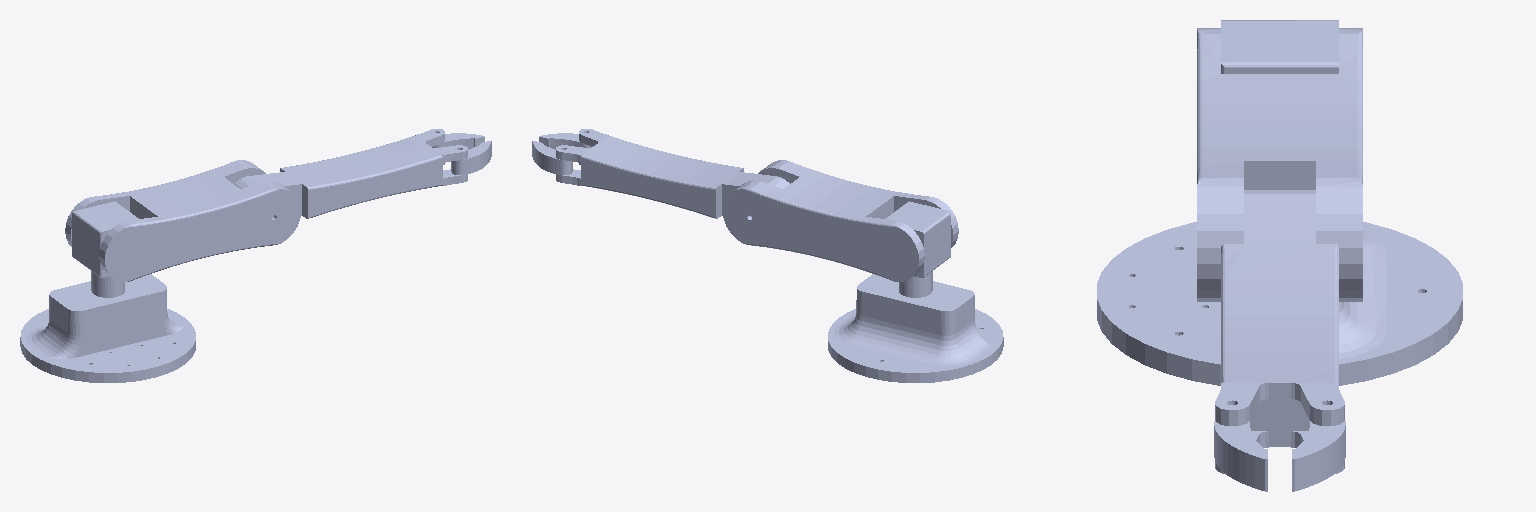
The robot description file, URDF, robot "ROBOT3DOF":
<?xml version="1.0" encoding="utf-8"?>
<!-- This URDF was automatically created by SolidWorks to URDF Exporter! Originally created by [author] ([email redacted]) 
     Commit Version: 1.4.4-24-g24328f6  Build Version: 1.5.7084.36479
     For more information, please see http://wiki.ros.org/sw_urdf_exporter -->
<robot
  name="ROBOT3DOF">
  <link
    name="base_link">
    <inertial>
      <origin
        xyz="-3.46944695195361E-18 0.000734019950536319 0.0182146247785747"
        rpy="0 0 0" />
      <mass
        value="0.390546351913761" />
      <inertia
        ixx="0.000433142119189262"
        ixy="5.85412636049671E-21"
        ixz="3.60322986082196E-20"
        iyy="0.000588529745204659"
        iyz="1.36826497561383E-06"
        izz="0.000821776936803002" />
    </inertial>
    <visual>
      <origin
        xyz="0 0 0"
        rpy="0 0 0" />
      <geometry>
        <mesh
          filename="package://ROBOT3DOF/meshes/base_link.STL" />
      </geometry>
      <material
        name="">
        <color
          rgba="0.792156862745098 0.819607843137255 0.933333333333333 1" />
      </material>
    </visual>
    <collision>
      <origin
        xyz="0 0 0"
        rpy="0 0 0" />
      <geometry>
        <mesh
          filename="package://ROBOT3DOF/meshes/base_link.STL" />
      </geometry>
    </collision>
  </link>
  <link
    name="L1">
    <inertial>
      <origin
        xyz="-1.19767229930789E-05 -5.60334834087683E-11 0.0742814867092415"
        rpy="0 0 0" />
      <mass
        value="0.152127065742925" />
      <inertia
        ixx="0.000170878651989639"
        ixy="1.73749677917352E-13"
        ixz="3.50143046249832E-08"
        iyy="0.000175281606401285"
        iyz="-9.21649289159926E-12"
        izz="4.41254717941588E-05" />
    </inertial>
    <visual>
      <origin
        xyz="0 0 0"
        rpy="0 0 0" />
      <geometry>
        <mesh
          filename="package://ROBOT3DOF/meshes/L1.STL" />
      </geometry>
      <material
        name="">
        <color
          rgba="0.792156862745098 0.819607843137255 0.933333333333333 1" />
      </material>
    </visual>
    <collision>
      <origin
        xyz="0 0 0"
        rpy="0 0 0" />
      <geometry>
        <mesh
          filename="package://ROBOT3DOF/meshes/L1.STL" />
      </geometry>
    </collision>
  </link>
  <joint
    name="q1"
    type="continuous">
    <origin
      xyz="0 0 0.01"
      rpy="0 0 -1.5708" />
    <parent
      link="base_link" />
    <child
      link="L1" />
    <axis
      xyz="0 0 1" />
    <safety_controller
      k_velocity="0" />
  </joint>
  <link
    name="L2">
    <inertial>
      <origin
        xyz="0.0863385190408666 -1.29323954323191E-10 -1.71780373259267E-08"
        rpy="0 0 0" />
      <mass
        value="0.444092336946675" />
      <inertia
        ixx="0.000317547693441852"
        ixy="1.17720821113016E-11"
        ixz="-9.05924708954444E-11"
        iyy="0.00118834565949055"
        iyz="1.9249218619524E-12"
        izz="0.00104038594340033" />
    </inertial>
    <visual>
      <origin
        xyz="0 0 0"
        rpy="0 0 0" />
      <geometry>
        <mesh
          filename="package://ROBOT3DOF/meshes/L2.STL" />
      </geometry>
      <material
        name="">
        <color
          rgba="0.792156862745098 0.819607843137255 0.933333333333333 1" />
      </material>
    </visual>
    <collision>
      <origin
        xyz="0 0 0"
        rpy="0 0 0" />
      <geometry>
        <mesh
          filename="package://ROBOT3DOF/meshes/L2.STL" />
      </geometry>
    </collision>
  </link>
  <joint
    name="q2"
    type="continuous">
    <origin
      xyz="0 0 0.0935"
      rpy="1.5708 -0.0060095 1.5708" />
    <parent
      link="L1" />
    <child
      link="L2" />
    <axis
      xyz="0 0 -1" />
    <safety_controller
      k_velocity="0" />
  </joint>
  <link
    name="L3">
    <inertial>
      <origin
        xyz="0.08880866919622 -8.63632665382141E-10 2.86037415975215E-10"
        rpy="0 0 0" />
      <mass
        value="0.253295592920133" />
      <inertia
        ixx="6.46844441080573E-05"
        ixy="-8.60817283808103E-12"
        ixz="1.6747583235886E-12"
        iyy="0.000921005263138876"
        iyz="-8.76187470138653E-12"
        izz="0.000893253683336295" />
    </inertial>
    <visual>
      <origin
        xyz="0 0 0"
        rpy="0 0 0" />
      <geometry>
        <mesh
          filename="package://ROBOT3DOF/meshes/L3.STL" />
      </geometry>
      <material
        name="">
        <color
          rgba="0.792156862745098 0.819607843137255 0.933333333333333 1" />
      </material>
    </visual>
    <collision>
      <origin
        xyz="0 0 0"
        rpy="0 0 0" />
      <geometry>
        <mesh
          filename="package://ROBOT3DOF/meshes/L3.STL" />
      </geometry>
    </collision>
  </link>
  <joint
    name="q3"
    type="continuous">
    <origin
      xyz="0.14865 0 0"
      rpy="0 0 -0.0060095" />
    <parent
      link="L2" />
    <child
      link="L3" />
    <axis
      xyz="0 0 1" />
    <safety_controller
      k_velocity="0" />
  </joint>
  <link
    name="end">
    <inertial>
      <origin
        xyz="0.0147484904292653 0.00749999999999999 0.02"
        rpy="0 0 0" />
      <mass
        value="0.0170269364589862" />
      <inertia
        ixx="8.17787639482355E-07"
        ixy="1.10746842051528E-21"
        ixz="-5.82335151237331E-22"
        iyy="2.99519068260753E-06"
        iyz="2.54403797783613E-13"
        izz="2.81591172974231E-06" />
    </inertial>
    <visual>
      <origin
        xyz="0 0 0"
        rpy="0 0 0" />
      <geometry>
        <mesh
          filename="package://ROBOT3DOF/meshes/end.STL" />
      </geometry>
      <material
        name="">
        <color
          rgba="0.792156862745098 0.819607843137255 0.933333333333333 1" />
      </material>
    </visual>
    <collision>
      <origin
        xyz="0 0 0"
        rpy="0 0 0" />
      <geometry>
        <mesh
          filename="package://ROBOT3DOF/meshes/end.STL" />
      </geometry>
    </collision>
  </link>
  <joint
    name="e"
    type="fixed">
    <origin
      xyz="0.1975 -0.0075 -0.02"
      rpy="0 0 0" />
    <parent
      link="L3" />
    <child
      link="end" />
    <axis
      xyz="0 0 0" />
    <safety_controller
      k_velocity="0" />
  </joint>
</robot>

--- Render facts (derived) ---
3 views of the same robot in one strip: view 1: azimuth 30°, elevation 25°; view 2: azimuth 150°, elevation 25°; view 3: azimuth 270°, elevation 25° (orthographic).
Model ROBOT3DOF with 5 links and 4 joints (3 continuous, 1 fixed), rooted at base_link, posed all joints at 0.
Visible links, largest first — view 1: L2, base_link, L3, L1, end; view 2: L2, base_link, L3, L1, end; view 3: L2, base_link, L3, L1, end.
Boxes of the visible links, <box> form: L2: <box>65,160,300,281</box>; base_link: <box>20,274,195,382</box>; L3: <box>234,129,467,218</box>; L1: <box>72,201,138,297</box>; end: <box>432,133,491,174</box>; L2: <box>723,160,958,281</box>; base_link: <box>828,274,1003,382</box>; L3: <box>556,129,789,218</box>; L1: <box>885,201,950,297</box>; end: <box>532,133,591,174</box>; L2: <box>1197,28,1362,301</box>; base_link: <box>1097,222,1462,385</box>; L3: <box>1215,190,1344,473</box>; L1: <box>1221,20,1338,73</box>; end: <box>1214,421,1345,491</box>.
Bounding box of the posed robot: 0.4636 × 0.1545 × 0.1319 m (x, y, z).
Meshes: 5 distinct files referenced, 5 mesh visuals loaded (5 binary STL).